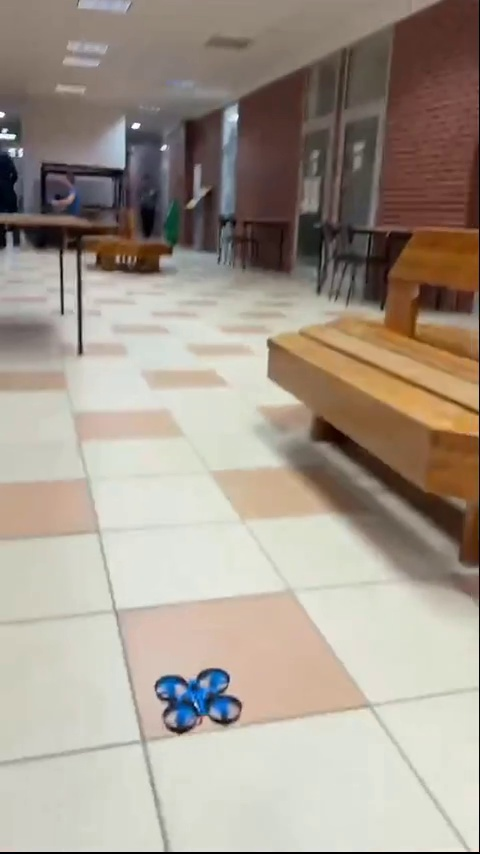drone: (152, 665, 242, 734)
no vest: (47, 163, 89, 217), (135, 171, 165, 237)
